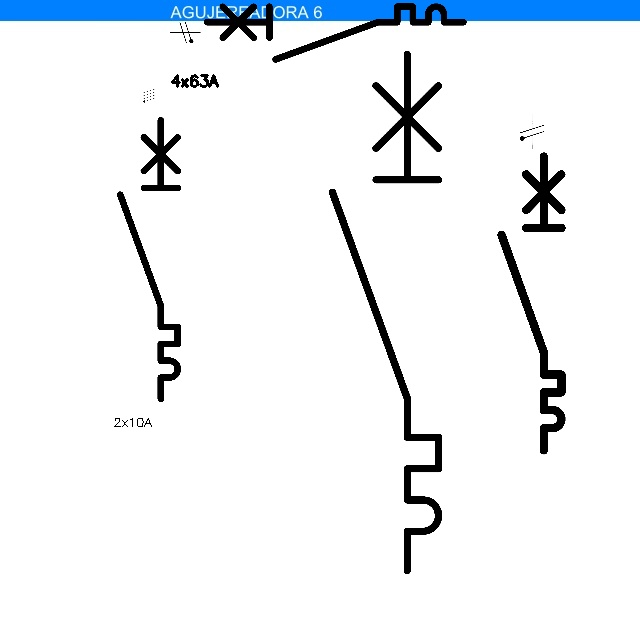interruptor_termomagnetico: (319, 41, 452, 584), (494, 148, 569, 457), (113, 113, 185, 406), (200, 0, 470, 66)
